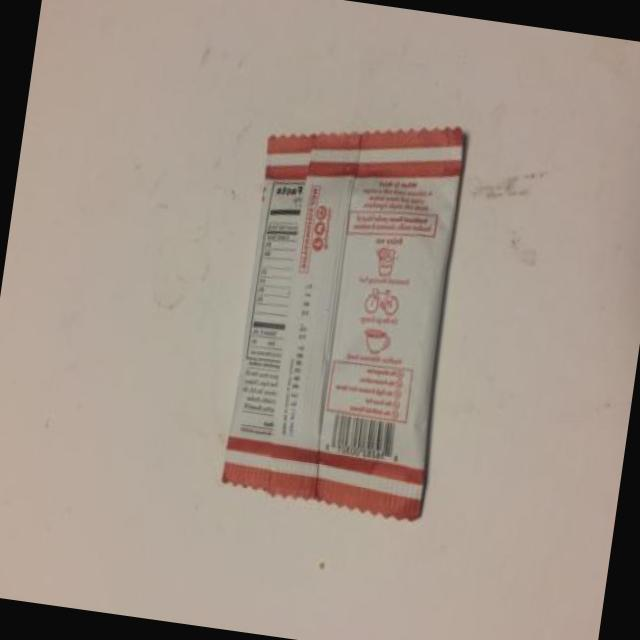bao_bi_thuc_pham: (223, 124, 468, 519)
